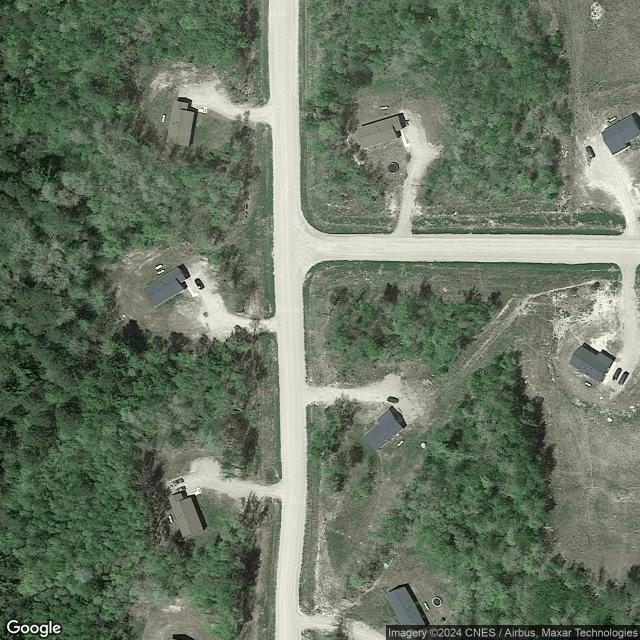Propane: (153, 262, 164, 272), (396, 437, 405, 449), (156, 267, 167, 276), (423, 600, 431, 612), (167, 513, 175, 524), (583, 380, 594, 388), (380, 103, 390, 111), (161, 113, 167, 124), (608, 116, 617, 123)
